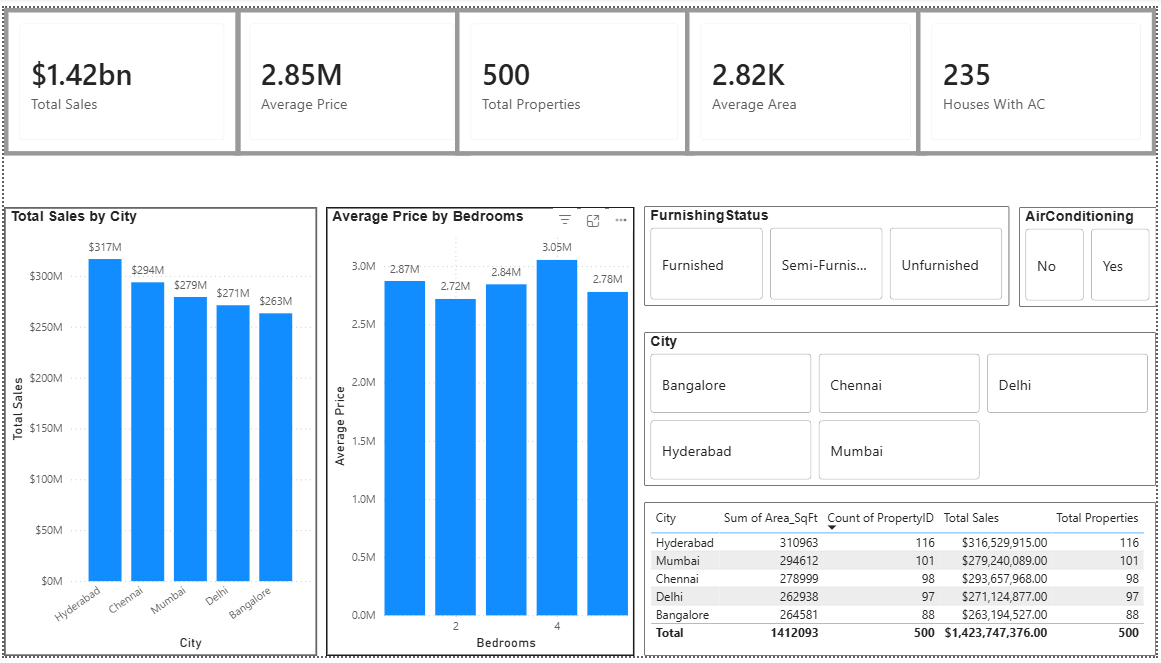

Layout of this report page (visuals, bound fields, positions):
{"tool":"powerbi","page":{"name":"Page 1","canvas":[1280,720],"ordinal":0},"visuals":[{"type":"cardVisual","fields":{"Data":["Fact_House.Average Price"]},"box":[255.7,0,262.9,164.3],"z":0},{"type":"cardVisual","fields":{"Data":["Fact_House.Total Properties"]},"box":[501.4,0,265.7,164.3],"z":1000},{"type":"cardVisual","fields":{"Data":["Fact_House.Average Area"]},"box":[757.1,0,268.6,164.3],"z":2000},{"type":"cardVisual","fields":{"Data":["Fact_House.Houses With AC"]},"box":[1012.9,0,267.1,164.3],"z":3000},{"type":"cardVisual","fields":{"Data":["Fact_House.Total Sales"]},"box":[0,0,262.9,164.3],"z":4000},{"type":"clusteredColumnChart","fields":{"Category":["Dim_City.City"],"Y":["Fact_House.Total Sales"]},"box":[0,221.2,347.5,498.8],"z":4001},{"type":"clusteredColumnChart","fields":{"Category":["Fact_House.Bedrooms"],"Y":["Fact_House.Average Price"]},"box":[357.5,221.2,342.5,498.8],"z":4002},{"type":"advancedSlicerVisual","fields":{"Values":["Fact_House.AirConditioning"]},"box":[1127.5,221.2,152.5,111.2],"z":4004},{"type":"advancedSlicerVisual","fields":{"Values":["Fact_House.FurnishingStatus"]},"box":[711.2,220,406.2,111.2],"z":4005},{"type":"tableEx","fields":{"Values":["Fact_House.City","Sum(Fact_House.Area_SqFt)","CountNonNull(Fact_House.PropertyID)","Fact_House.Total Sales","Fact_House.Total Properties"]},"box":[711.2,548.8,568.8,171.2],"z":4006},{"type":"advancedSlicerVisual","fields":{"Values":["Fact_House.City"]},"box":[711.2,360,568.8,171.2],"z":4007}]}

Visuals, with their boxes in screenshot pixels (x1, y1, x2, y2), scaled from the page's 1280x720 canvas onto the 1161x663 screenshot:
cardVisual - Fact_House.Average Price: locate(232, 0, 470, 151)
cardVisual - Fact_House.Total Properties: locate(455, 0, 696, 151)
cardVisual - Fact_House.Average Area: locate(687, 0, 930, 151)
cardVisual - Fact_House.Houses With AC: locate(919, 0, 1160, 151)
cardVisual - Fact_House.Total Sales: locate(0, 0, 238, 151)
clusteredColumnChart - Dim_City.City x Fact_House.Total Sales: locate(0, 204, 315, 662)
clusteredColumnChart - Fact_House.Bedrooms x Fact_House.Average Price: locate(324, 204, 635, 662)
advancedSlicerVisual - Fact_House.AirConditioning: locate(1023, 204, 1160, 306)
advancedSlicerVisual - Fact_House.FurnishingStatus: locate(645, 203, 1014, 305)
tableEx - Fact_House.City x Sum(Fact_House.Area_SqFt): locate(645, 505, 1160, 662)
advancedSlicerVisual - Fact_House.City: locate(645, 332, 1160, 489)
